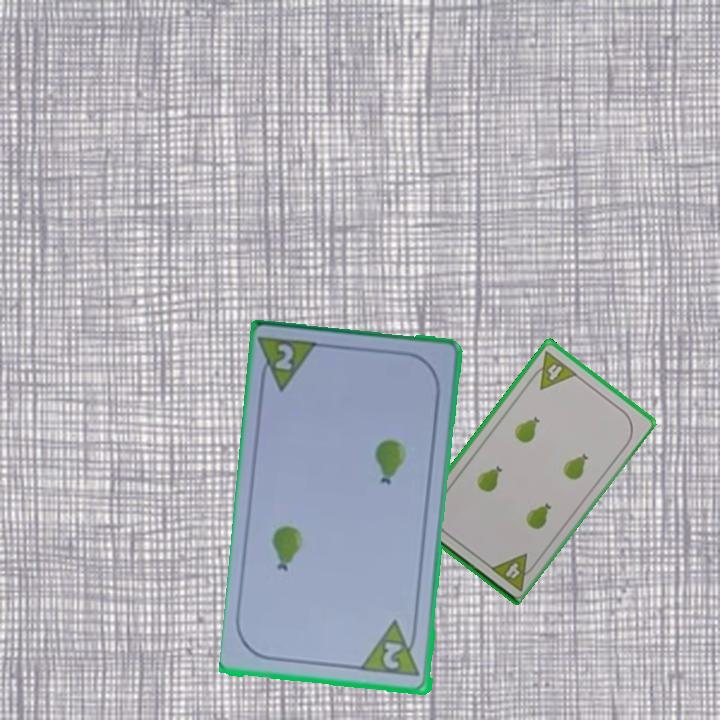2p: (256, 333, 323, 396), (359, 618, 424, 680)
4p: (525, 347, 580, 392), (486, 550, 540, 594)
